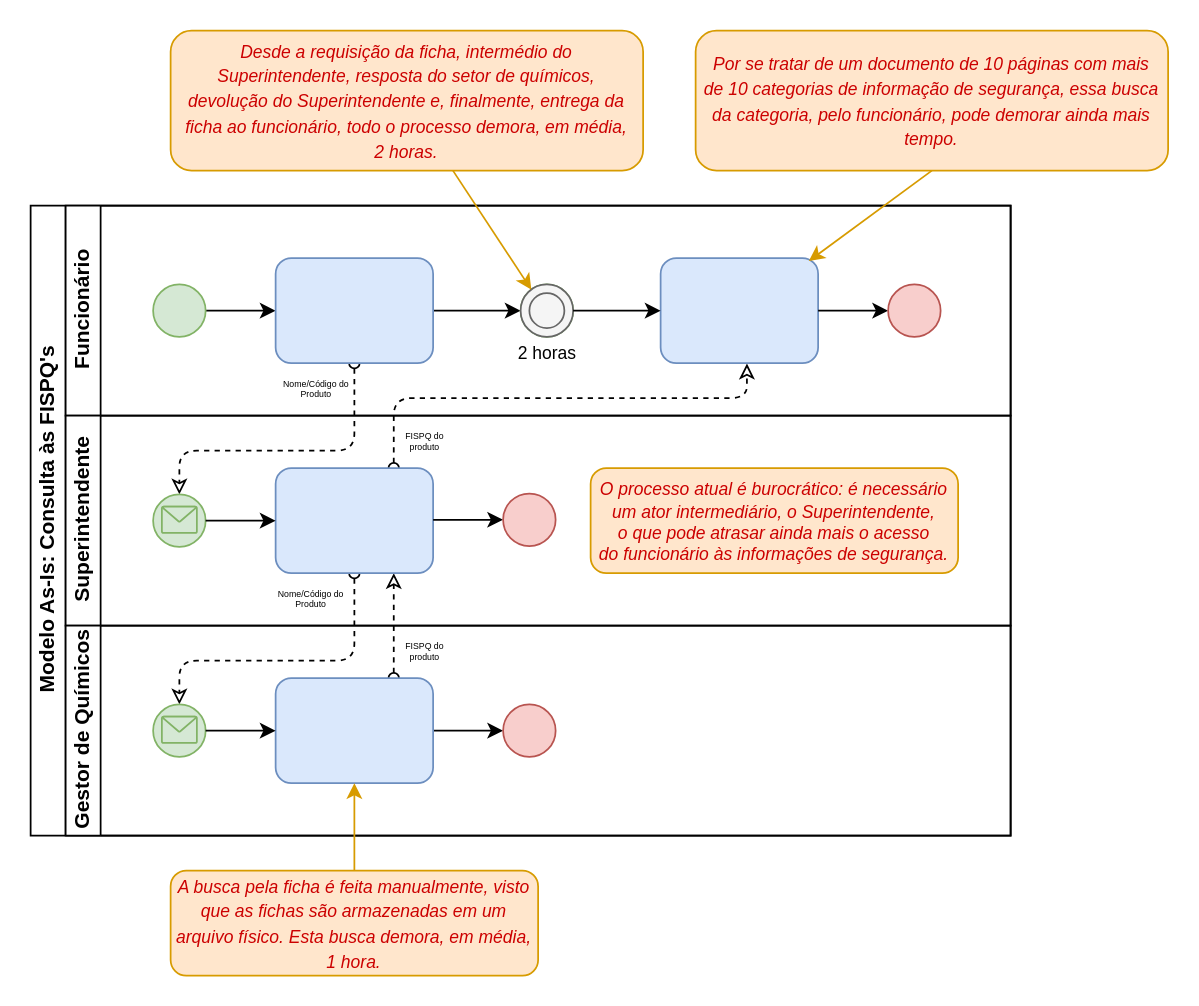
Some shapes in this 1199 by 1006 pixel diagram are drawn without their labels. Here are the shapes that lost their labels. From the top down, the centre of each, then its label:
point (353, 309): Solicitar Ficha de Informações de Produto Químico
point (738, 309): Buscar categoria de informação na FISPQ
point (353, 519): Enviar requisição para setor de gestão de produtos químicos
point (353, 729): Buscar Ficha de Informações no Arquivo
